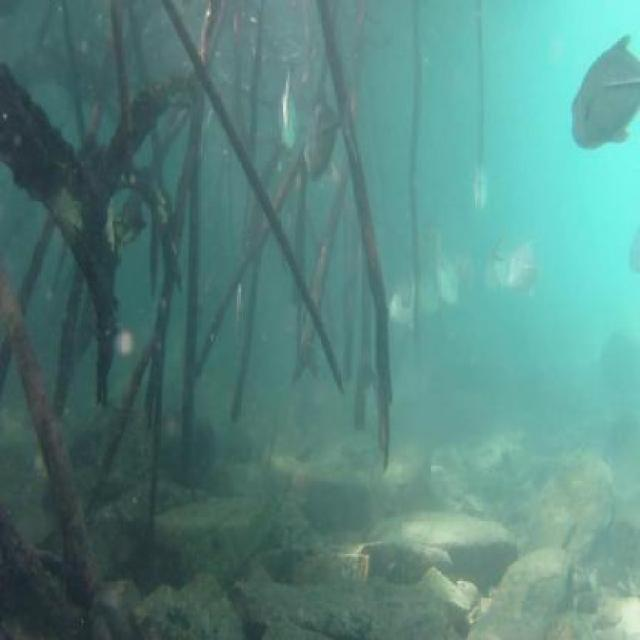Caranx_sexfasciatus_juvenile: (567, 36, 640, 156), (305, 91, 357, 182), (426, 238, 459, 308), (277, 64, 300, 151), (466, 150, 492, 216), (508, 242, 538, 296), (386, 281, 414, 334), (486, 237, 506, 291), (453, 256, 475, 296)
